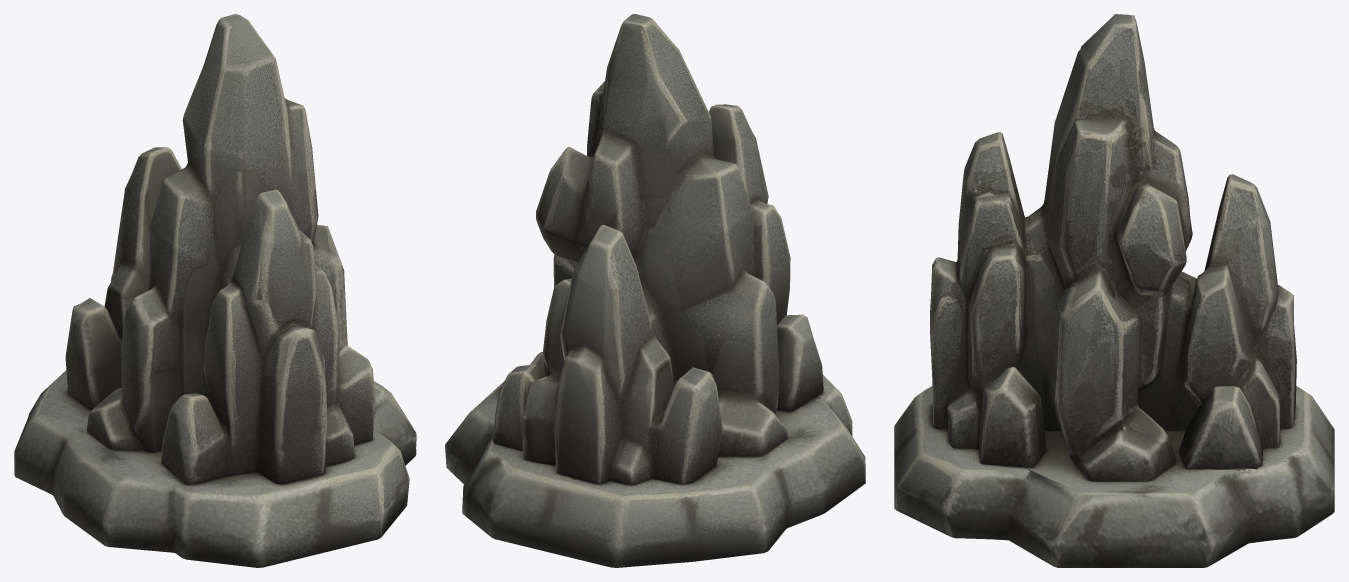
File: tripo_convert_2d080529-faea-441d-b608-ad2ef15b66e5.fbx
The picture shows the model from 3 angles, left to right: view 1: azimuth 30°, elevation 25°; view 2: azimuth 150°, elevation 25°; view 3: azimuth 270°, elevation 25°; orthographic projection. The views are drawn at different scales.
Parts seen in each view (by area): view 1: tripo_node_2d080529; view 2: tripo_node_2d080529; view 3: tripo_node_2d080529.
Part boxes in pixels (box(x1,y1,x2,y2)): tripo_node_2d080529: box(14, 14, 416, 567); tripo_node_2d080529: box(445, 14, 865, 567); tripo_node_2d080529: box(894, 14, 1334, 567).
Size of the model in its own units: 0.7598 by 0.998 by 0.8418.
1 material, 1 textured.
